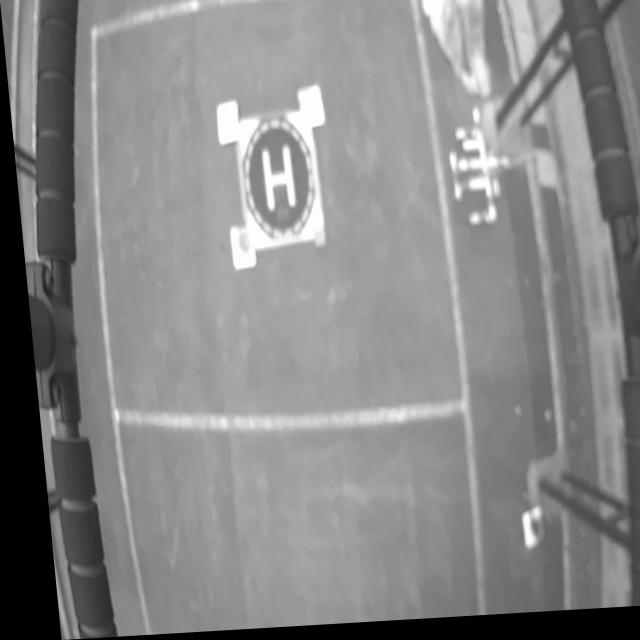Helipad: (258, 149, 292, 214)
